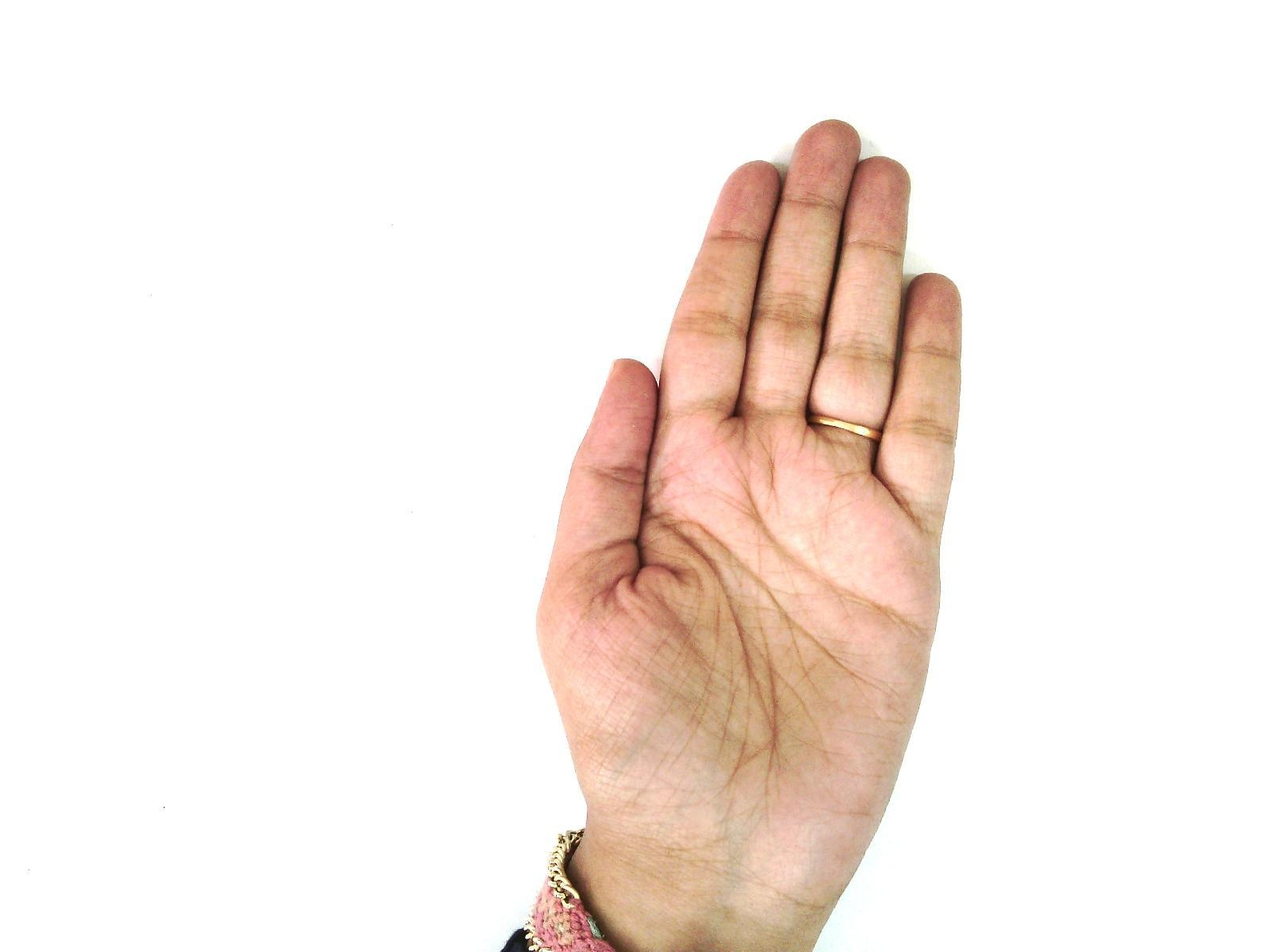open_palm: (531, 118, 965, 903)
